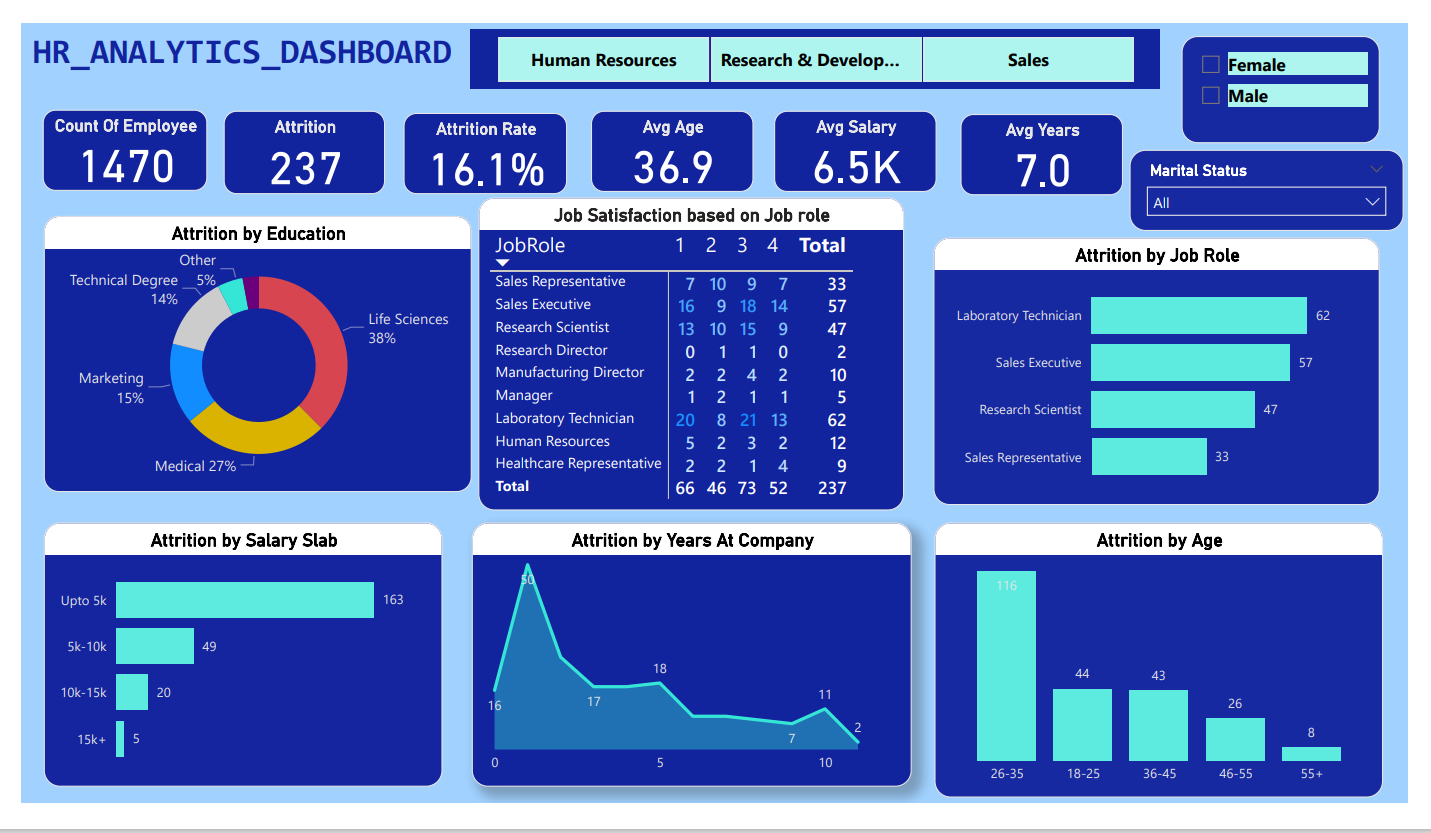

This screenshot's page, from the dashboard's own definition file:
{"tool":"powerbi","page":{"name":"Page 1","canvas":[1280,720],"ordinal":0},"visuals":[{"type":"card","title":"Count Of Employee","fields":{"Values":["CountNonNull(HR_Analytics.EmpID)"]},"box":[20.3,79.7,151.5,75],"z":0},{"type":"card","title":"Attrition","fields":{"Values":["Sum(HR_Analytics.Attrition Count)"]},"box":[187.4,81.2,148.4,76.5],"z":1000},{"type":"card","title":"Attrition Rate","fields":{"Values":["HR_Analytics.AttritionRate"]},"box":[353,82.8,151.5,75],"z":2000},{"type":"card","title":"Avg Age ","fields":{"Values":["Avg(HR_Analytics.Age)"]},"box":[526.3,81.2,149.9,75],"z":3000},{"type":"card","title":"Avg Salary","fields":{"Values":["Avg(HR_Analytics.MonthlyIncome)"]},"box":[695,81.2,149.9,75],"z":4000},{"type":"card","title":"Avg Years","fields":{"Values":["Avg(HR_Analytics.YearsAtCompany)"]},"box":[866.8,84.3,149.9,75],"z":5000},{"type":"donutChart","title":"Attrition by Education ","fields":{"Category":["HR_Analytics.EducationField"],"Y":["Sum(HR_Analytics.Attrition Count)"]},"box":[20.8,177.6,395,255.1],"z":6000},{"type":"columnChart","title":"Attrition by Age ","fields":{"Category":["HR_Analytics.AgeGroup"],"Y":["Sum(HR_Analytics.Attrition Count)"]},"box":[843.4,460.7,413.9,254.6],"z":7000},{"type":"pivotTable","title":"Job Satisfaction based on Job role","fields":{"Columns":["HR_Analytics.JobSatisfaction"],"Rows":["HR_Analytics.JobRole"],"Values":["Sum(HR_Analytics.Attrition Count)"]},"box":[421.7,160.9,393.6,288.9],"z":8000},{"type":"barChart","title":"Attrition by Salary Slab  ","fields":{"Category":["HR_Analytics.SalarySlab"],"Y":["Sum(HR_Analytics.Attrition Count)"]},"box":[20.8,461.1,368.5,243.8],"z":9000},{"type":"barChart","title":"Attrition by  Job Role","fields":{"Category":["HR_Analytics.JobRole"],"Y":["Sum(HR_Analytics.Attrition Count)"]},"box":[841.8,198.4,412.3,246.8],"z":10000},{"type":"areaChart","title":"Attrition by Years At Company ","fields":{"Category":["HR_Analytics.YearsAtCompany"],"Y":["Sum(HR_Analytics.Attrition Count)"]},"box":[415.8,461.1,406.3,243.8],"z":11000},{"type":"slicer","fields":{"Values":["HR_Analytics.Department"]},"box":[415.4,6.2,635.7,54.7],"z":12000},{"type":"textbox","box":[6.2,3.1,459.2,79.7],"z":13000},{"type":"slicer","fields":{"Values":["HR_Analytics.Gender"]},"box":[1071.4,12.5,182.7,98.4],"z":14000},{"type":"slicer","fields":{"Values":["HR_Analytics.MaritalStatus"]},"box":[1023,117.1,253,75],"z":15000}]}

Visuals, with their boxes in screenshot pixels (x1, y1, x2, y2):
"Count Of Employee" card: region(48, 144, 209, 224)
"Attrition" card: region(225, 146, 383, 227)
"Attrition Rate" card: region(401, 148, 563, 227)
"Avg Age " card: region(586, 146, 745, 226)
"Avg Salary" card: region(765, 146, 925, 226)
"Avg Years" card: region(948, 149, 1107, 229)
"Attrition by Education " donutChart: region(48, 248, 468, 520)
"Attrition by Age " columnChart: region(923, 550, 1363, 820)
"Job Satisfaction based on Job role" pivotTable: region(475, 231, 893, 538)
"Attrition by Salary Slab  " barChart: region(48, 550, 440, 809)
"Attrition by  Job Role" barChart: region(921, 271, 1360, 533)
"Attrition by Years At Company " areaChart: region(468, 550, 900, 809)
slicer - HR_Analytics.Department: region(468, 66, 1144, 124)
textbox: region(33, 63, 521, 148)
slicer - HR_Analytics.Gender: region(1165, 73, 1360, 178)
slicer - HR_Analytics.MaritalStatus: region(1114, 184, 1383, 264)
